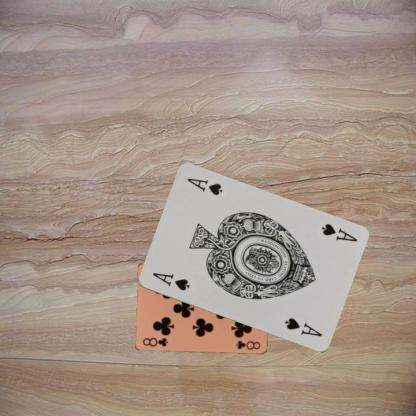8c: (140, 334, 170, 348)
As: (318, 221, 359, 244), (150, 270, 192, 292)
